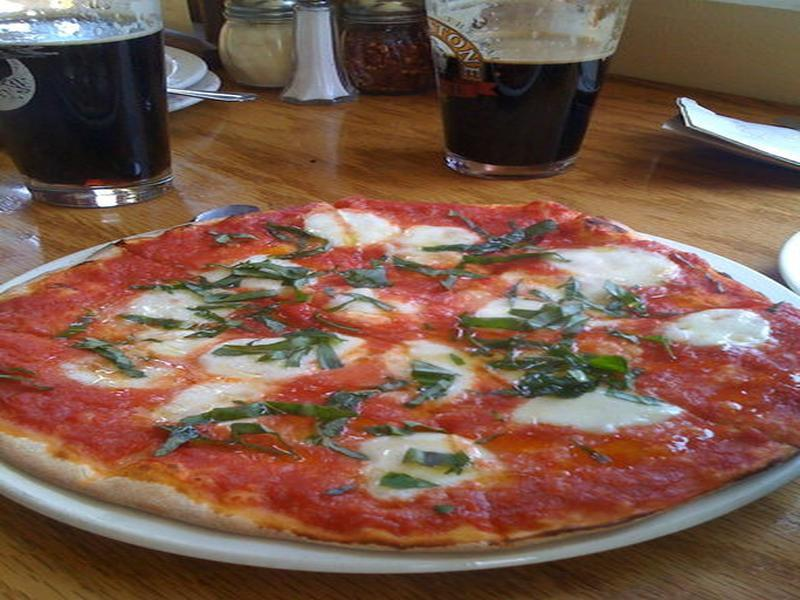pizza: (8, 178, 800, 560)
